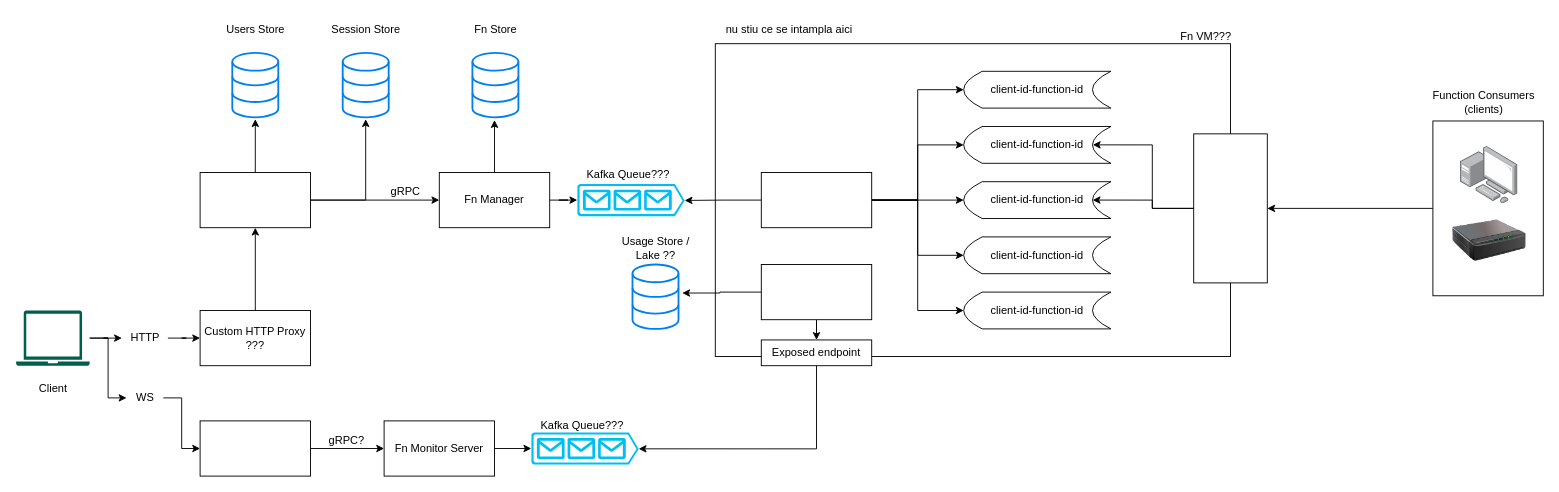
Some shapes in this 1559 by 492 pixel diagram are drawn without their labels. The shapes that lost their labels are listed below. From the top down, each one's centre as x and y in pixels, then its label:
the point at 254,200: Auth Service
the point at 816,200: Fn Boostrap
the point at 1230,208: Proxy??? / exposed endpoint
the point at 816,292: Fn Load Monitor
the point at 254,448: Custom WS Proxy ???
